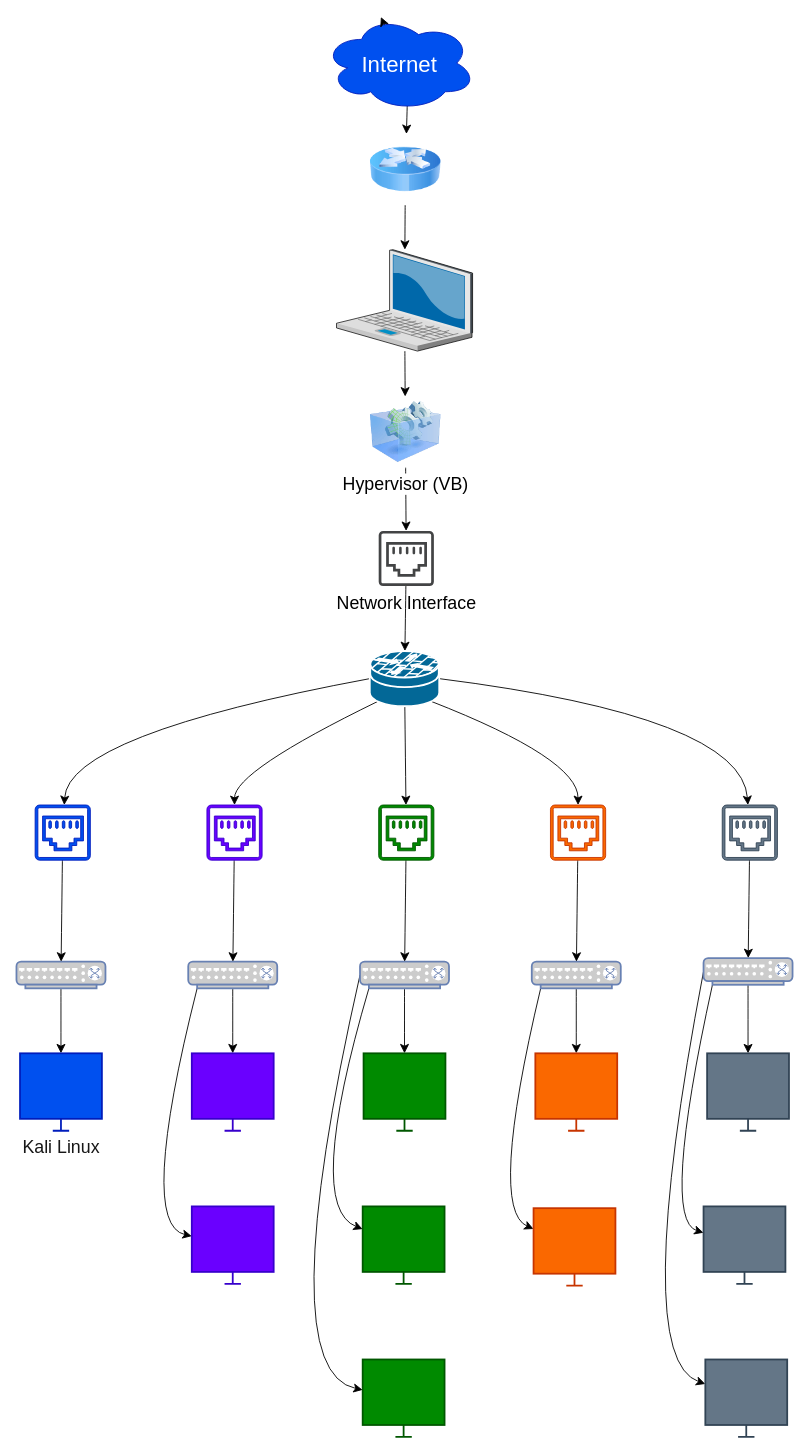
The diagram is 808 pixels wide and 1453 high, and some of its shapes have lost their labels. Each missing label, with the box of its shape:
Firewall/Router "pfSense": (368, 650, 440, 707)
Host Machine: (336, 249, 473, 351)
ISP Modem: (369, 134, 441, 205)
